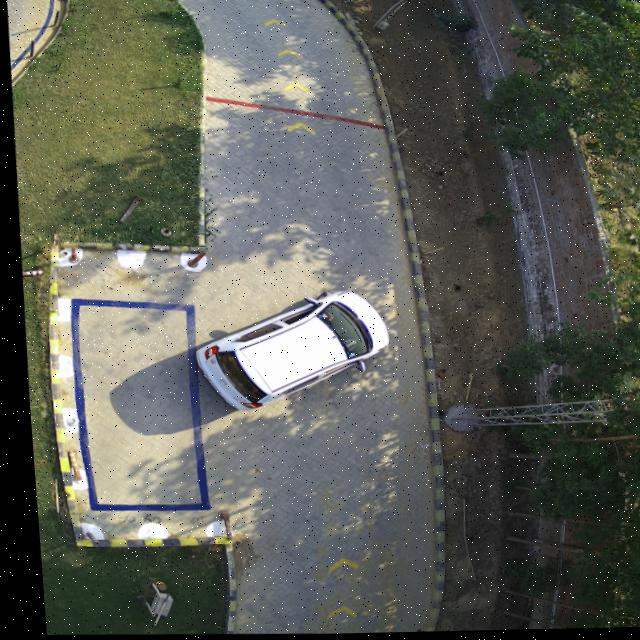car: (186, 292, 383, 413)
